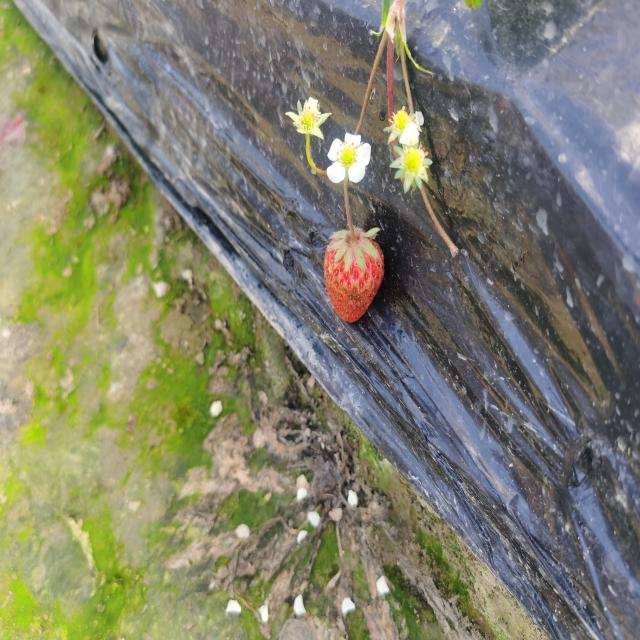stem: (345, 202, 358, 246)
strawberry: (324, 230, 385, 323)
